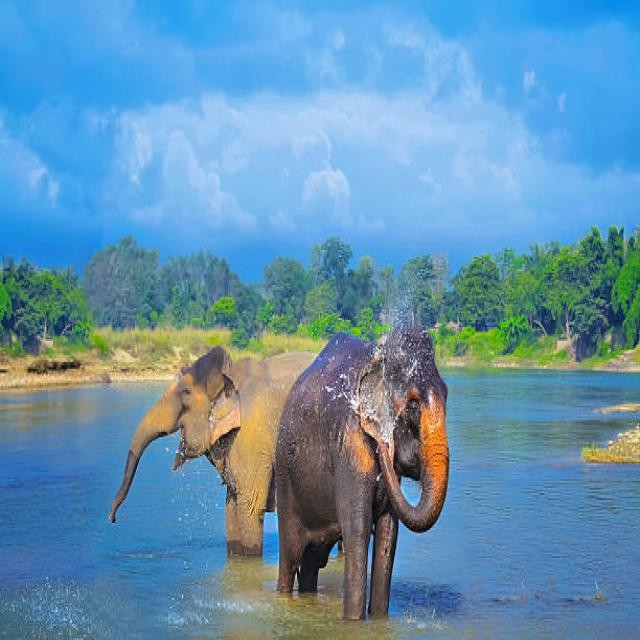Elephant: (272, 312, 456, 612), (115, 312, 282, 577)
